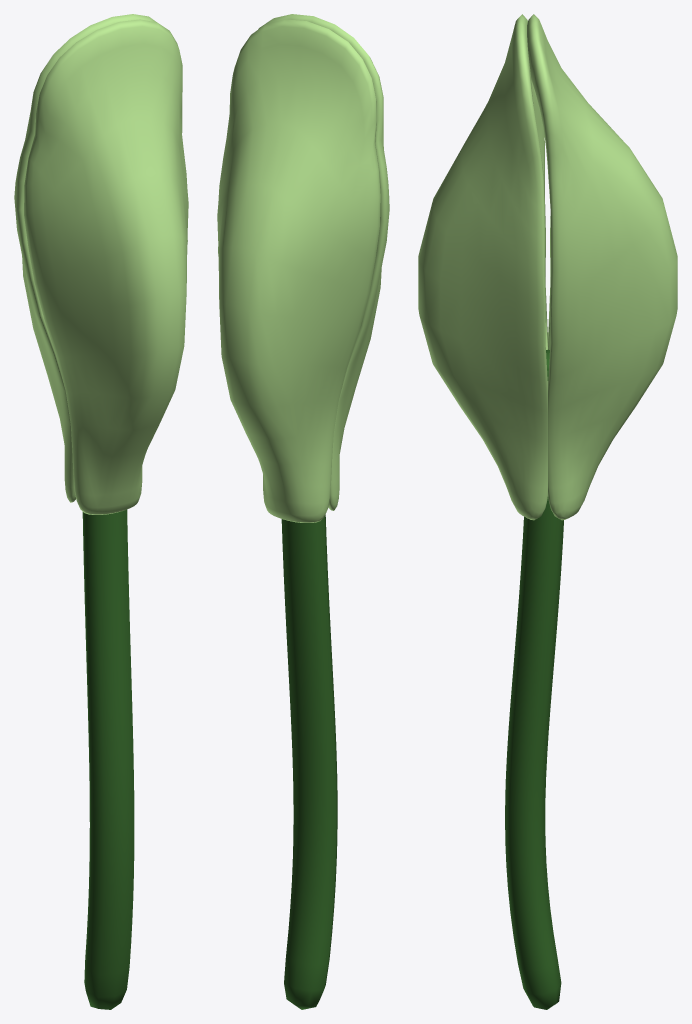
File: PoisonousBulb.fbx
3 renders of one model, left to right at view 1: azimuth 30°, elevation 25°; view 2: azimuth 150°, elevation 25°; view 3: azimuth 270°, elevation 25°, orthographic.
Parts seen in each view (by area): view 1: Plane.008, BezierCurve.002, Plane.009; view 2: Plane.009, BezierCurve.002, Plane.008; view 3: Plane.009, Plane.008, BezierCurve.002.
Part boxes in pixels (bbox=[...]): Plane.008: bbox=[24, 19, 188, 514]; BezierCurve.002: bbox=[82, 509, 134, 1009]; Plane.009: bbox=[14, 14, 156, 502]; Plane.009: bbox=[217, 19, 380, 522]; BezierCurve.002: bbox=[281, 515, 337, 1009]; Plane.008: bbox=[258, 14, 389, 510]; Plane.009: bbox=[527, 14, 677, 520]; Plane.008: bbox=[418, 14, 547, 520]; BezierCurve.002: bbox=[505, 349, 563, 1009].
Bounding box in the file's own units: 50.05 × 298 × 70.8.
